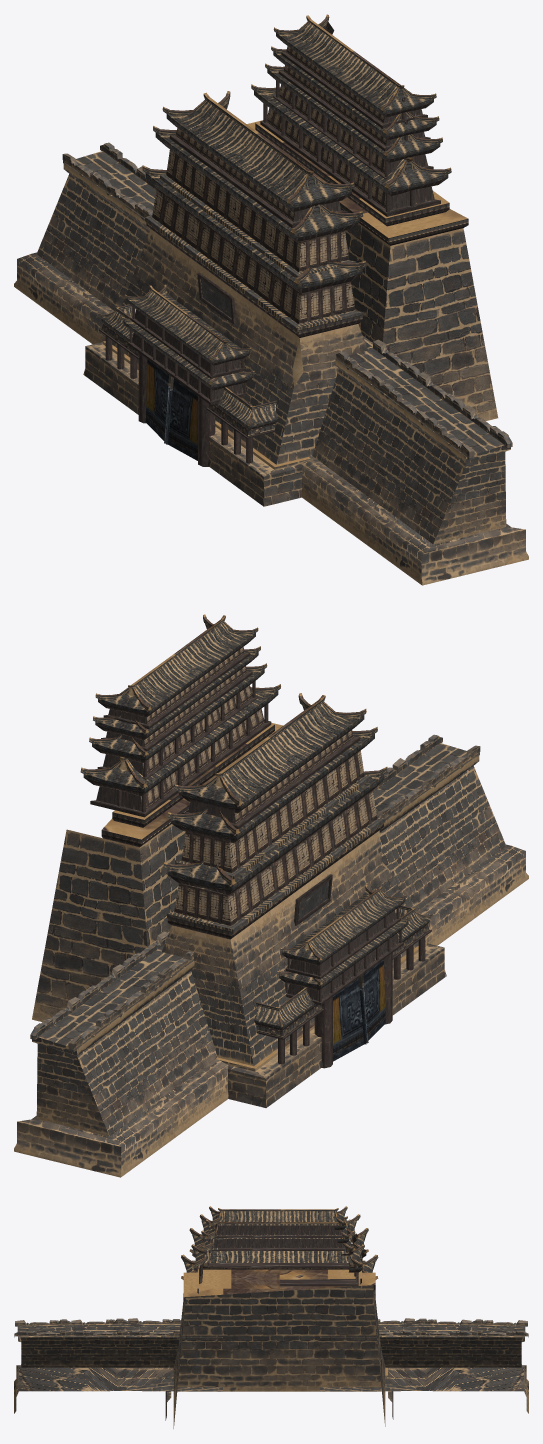
The model's file is sm_jianzhu_1.FBX.
3 views of the same model, one above another, from view 1: azimuth 30°, elevation 25°; view 2: azimuth 150°, elevation 25°; view 3: azimuth 270°, elevation 25° (orthographic). The views are drawn at different scales.
Parts seen in each view (by area): view 1: sm_jianzhu_1; view 2: sm_jianzhu_1; view 3: sm_jianzhu_1.
Boxes of the visible parts, x1=… form: sm_jianzhu_1: x1=14, y1=14, x2=528, y2=585; sm_jianzhu_1: x1=14, y1=614, x2=528, y2=1177; sm_jianzhu_1: x1=14, y1=1206, x2=528, y2=1428.
Size of the model in its own units: 2422 by 3217 by 6834.
